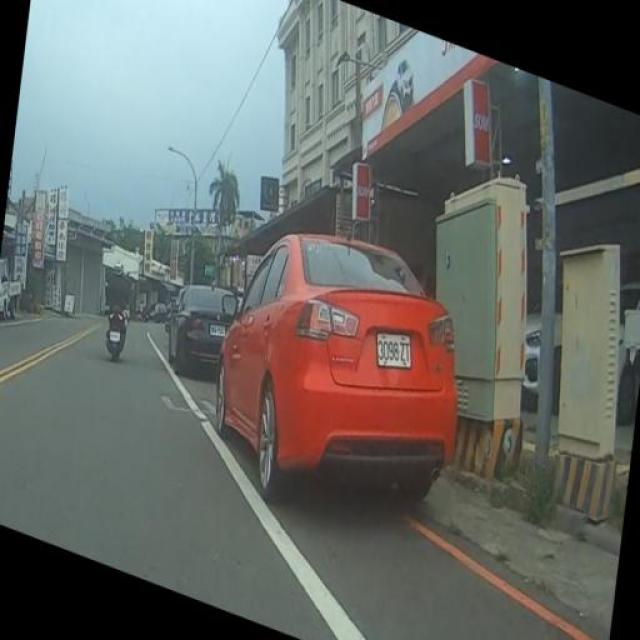Legalparking: (157, 200, 498, 524)
